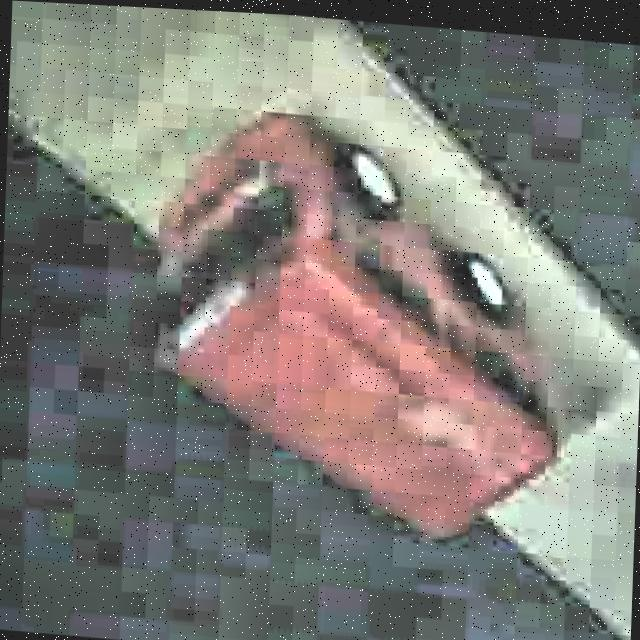bus: (144, 101, 576, 552)
